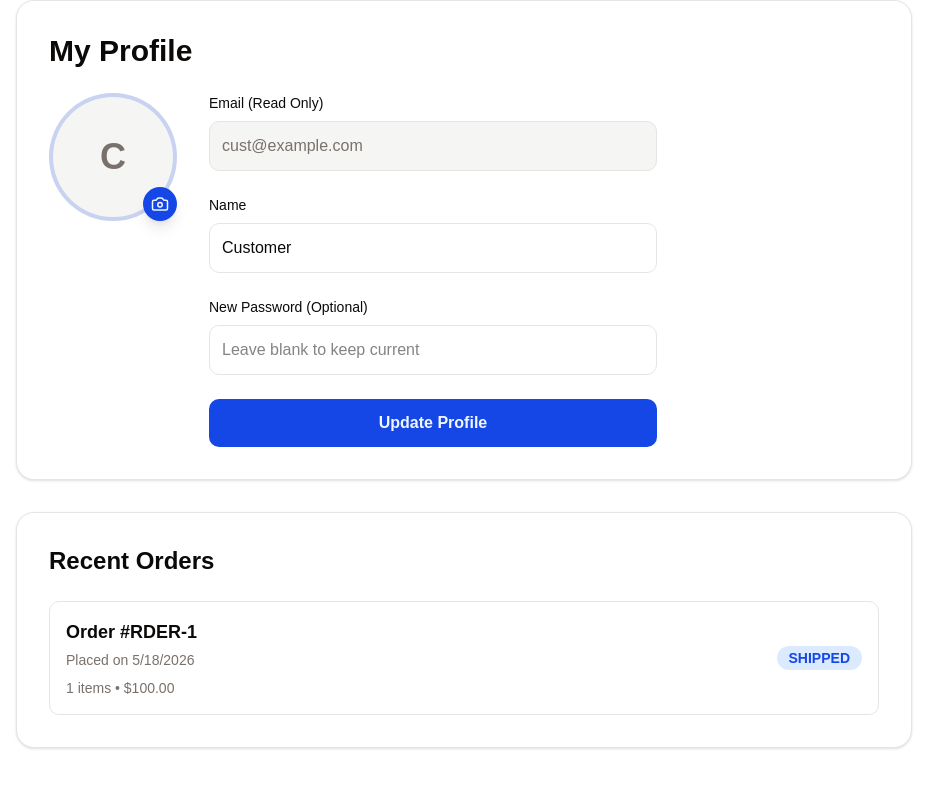
Scenario: ProfilePage › submits profile updates successfully
The width and height of the screenshot is (929, 810).
Replace the text in the field showing "Customer" below "Name" with "New Name" at point(433, 248), box [209,223,657,273]
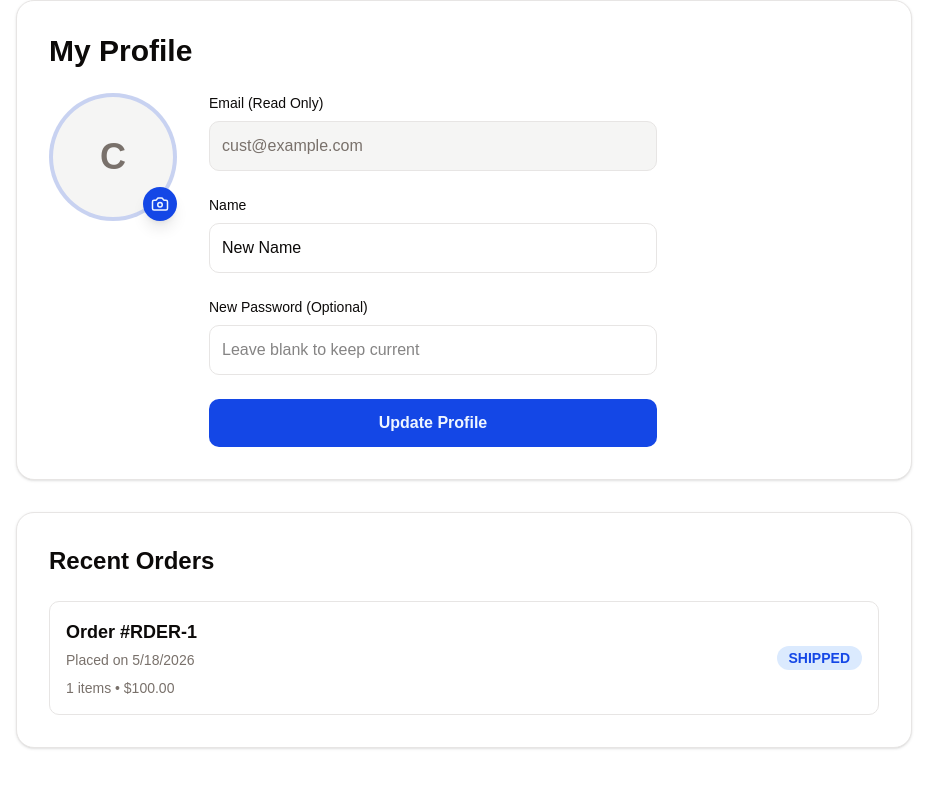
Submit the form "Update Profile", box [209,93,657,447]
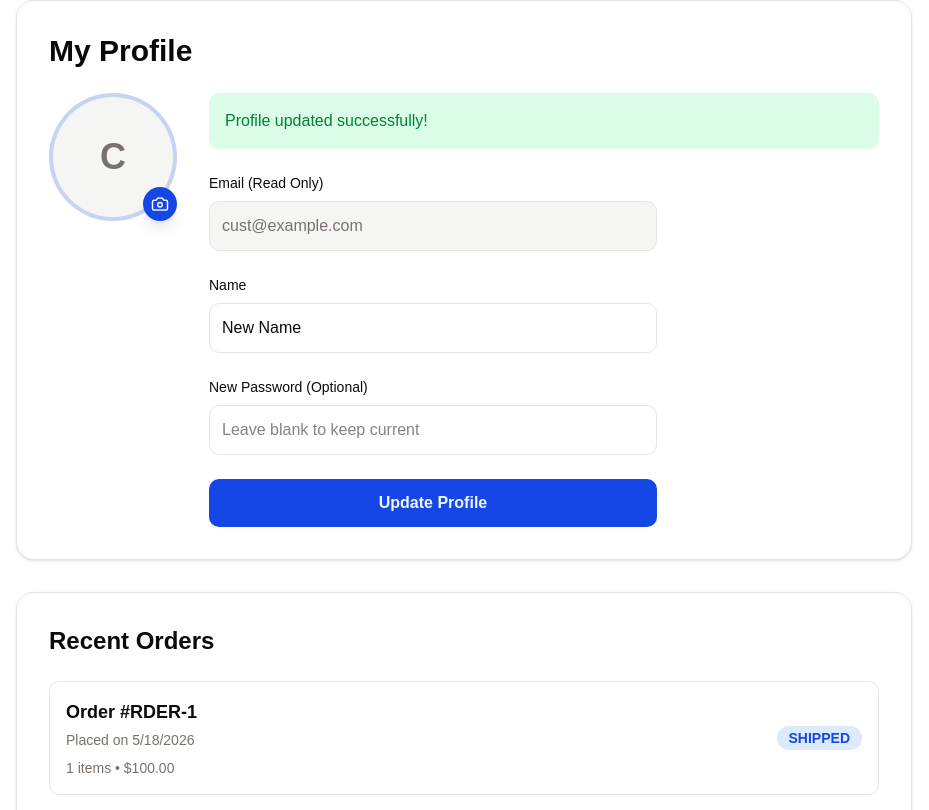
Check: the text "Profile updated successfully!" is shown, box [209,93,879,149]
